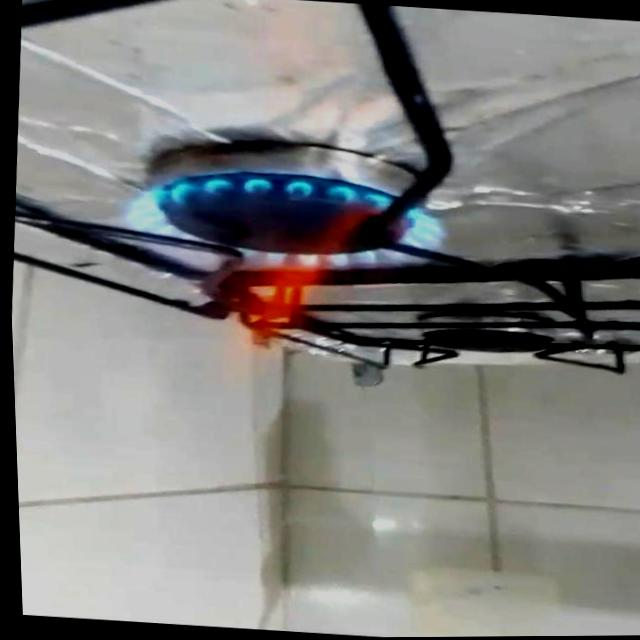helmet: (99, 159, 459, 380)
